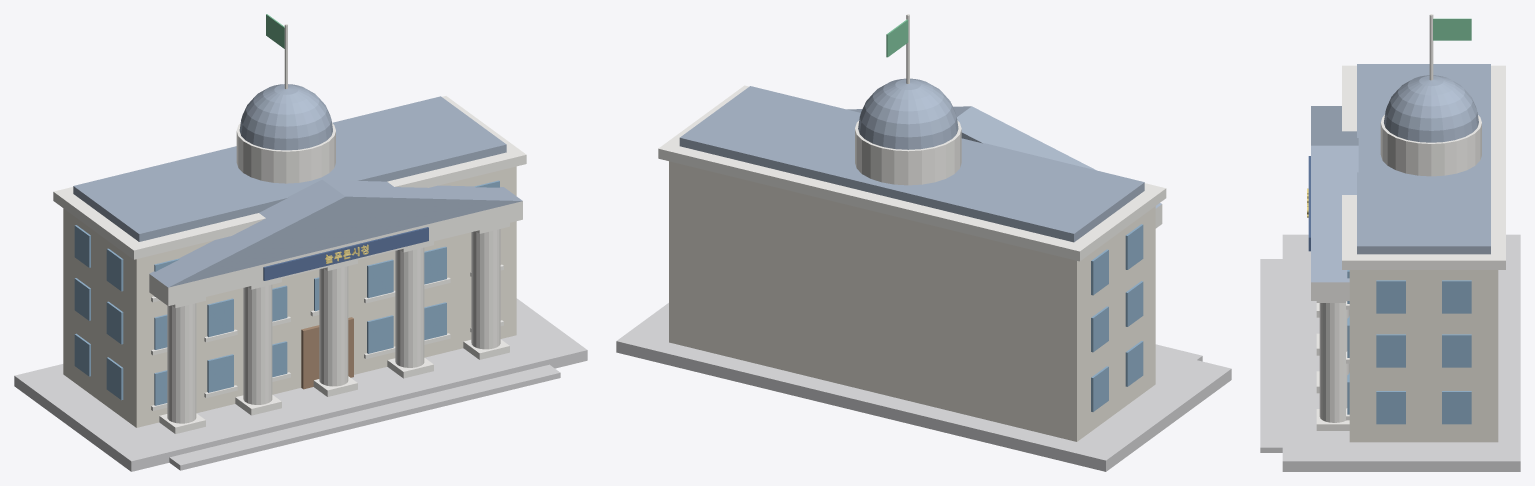
File: town.glb
3 renders of one model, left to right at view 1: azimuth 30°, elevation 25°; view 2: azimuth 150°, elevation 25°; view 3: azimuth 270°, elevation 25°, orthographic. The views are drawn at different scales.
Parts seen in each view (by area): view 1: cityhall_mesh; view 2: cityhall_mesh; view 3: cityhall_mesh.
Part boxes in pixels (x1,y1,x2,y2): cityhall_mesh: [14, 14, 587, 471]; cityhall_mesh: [616, 14, 1231, 471]; cityhall_mesh: [1260, 14, 1520, 471].
Bounding box in the file's own units: 36 × 25.56 × 17.5.
